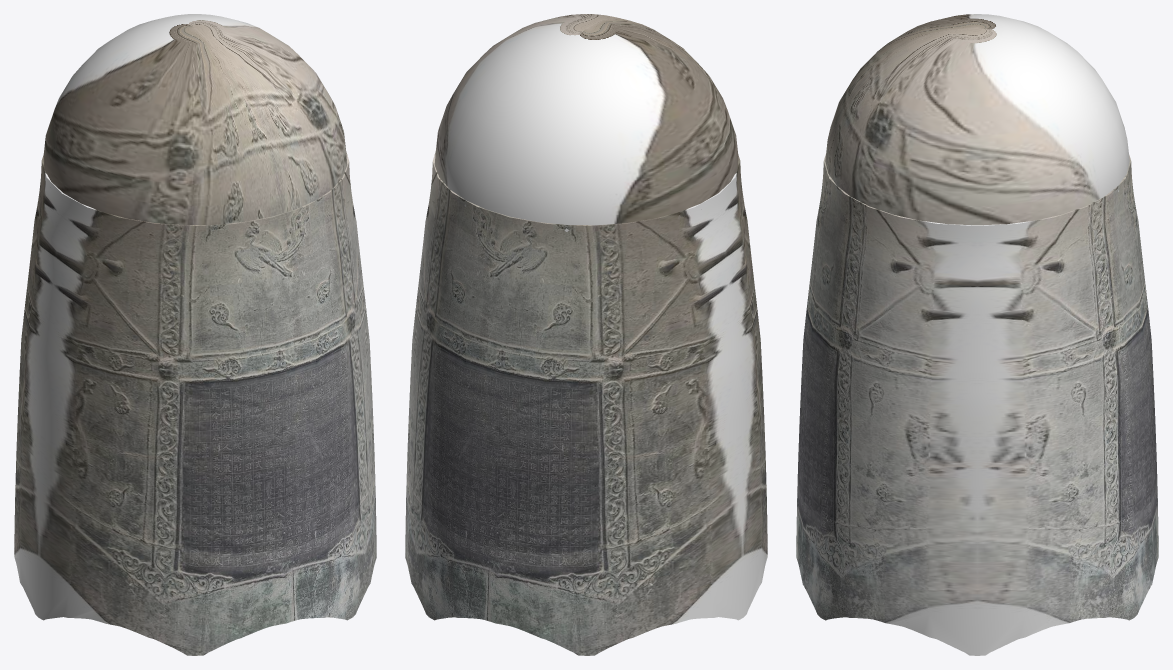
File: Clock01.FBX
3 renders of one model, left to right at view 1: azimuth 30°, elevation 25°; view 2: azimuth 150°, elevation 25°; view 3: azimuth 270°, elevation 25°, orthographic.
Visible parts, largest first — view 1: Loft002, Sphere002; view 2: Loft002, Sphere002; view 3: Loft002, Sphere002.
Part boxes in pixels (<box>): Loft002: <box>14,151,376,655</box>; Sphere002: <box>43,14,347,231</box>; Loft002: <box>405,152,767,655</box>; Sphere002: <box>434,14,738,231</box>; Loft002: <box>796,154,1158,655</box>; Sphere002: <box>825,14,1129,226</box>.
Size of the model in its own units: 165 by 277 by 165.
1 material, 1 textured.
